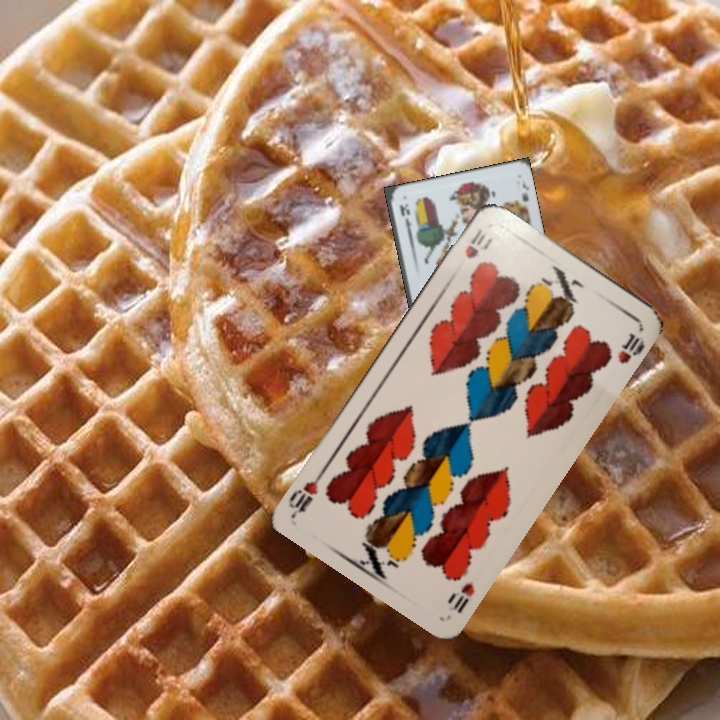EK: (396, 200, 414, 239)
H10: (443, 578, 478, 616), (460, 224, 494, 262)
